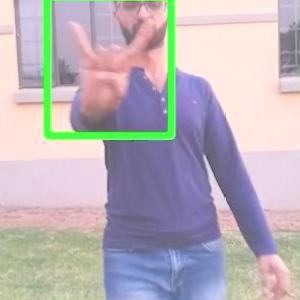takeoff-hand: (60, 5, 158, 127)
